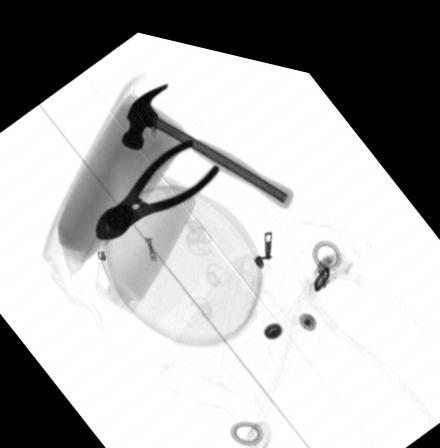Hammer: (120, 74, 295, 195)
Pliers: (93, 128, 219, 235)
